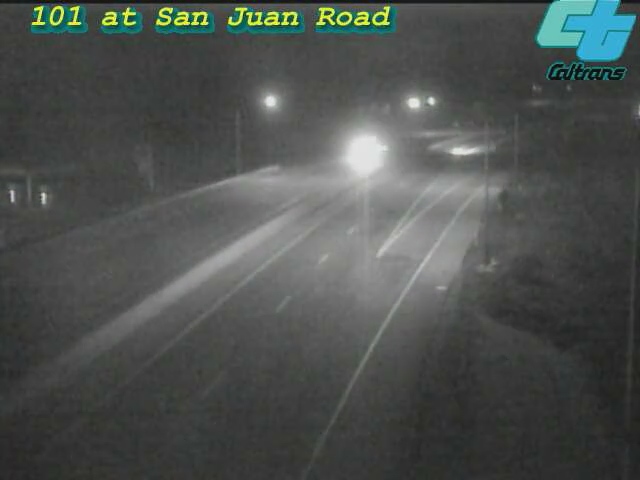vehicle: (338, 125, 388, 175), (431, 126, 481, 176)
